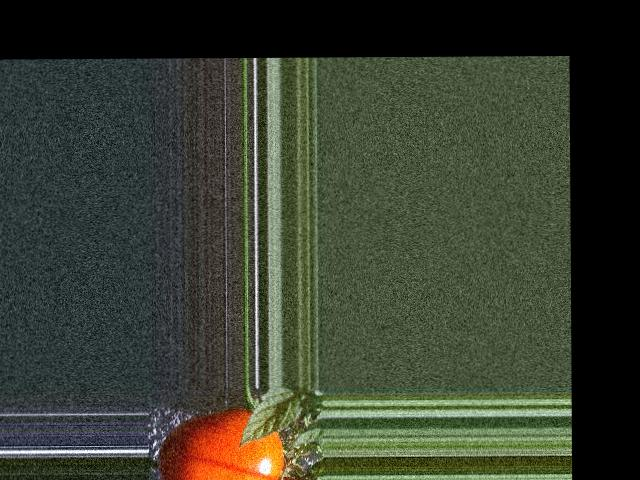tomato: (158, 408, 284, 480)
